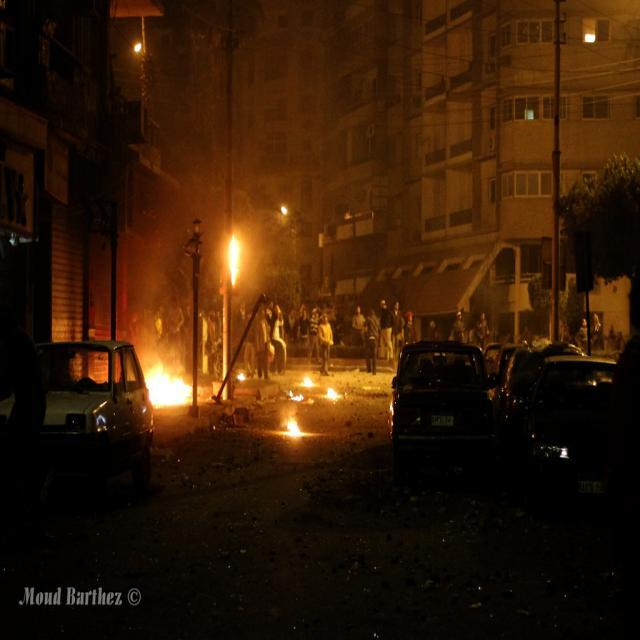Fire: (146, 368, 184, 402), (284, 410, 301, 440), (230, 232, 240, 276), (322, 382, 334, 410)
